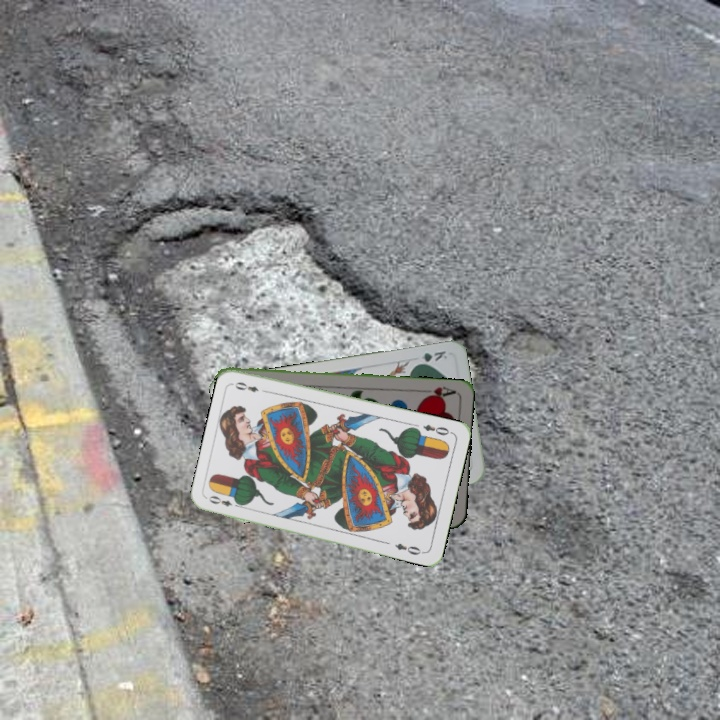EO: (205, 492, 244, 510), (419, 420, 455, 438)
GK: (411, 347, 450, 368)
HA: (417, 382, 458, 402)
